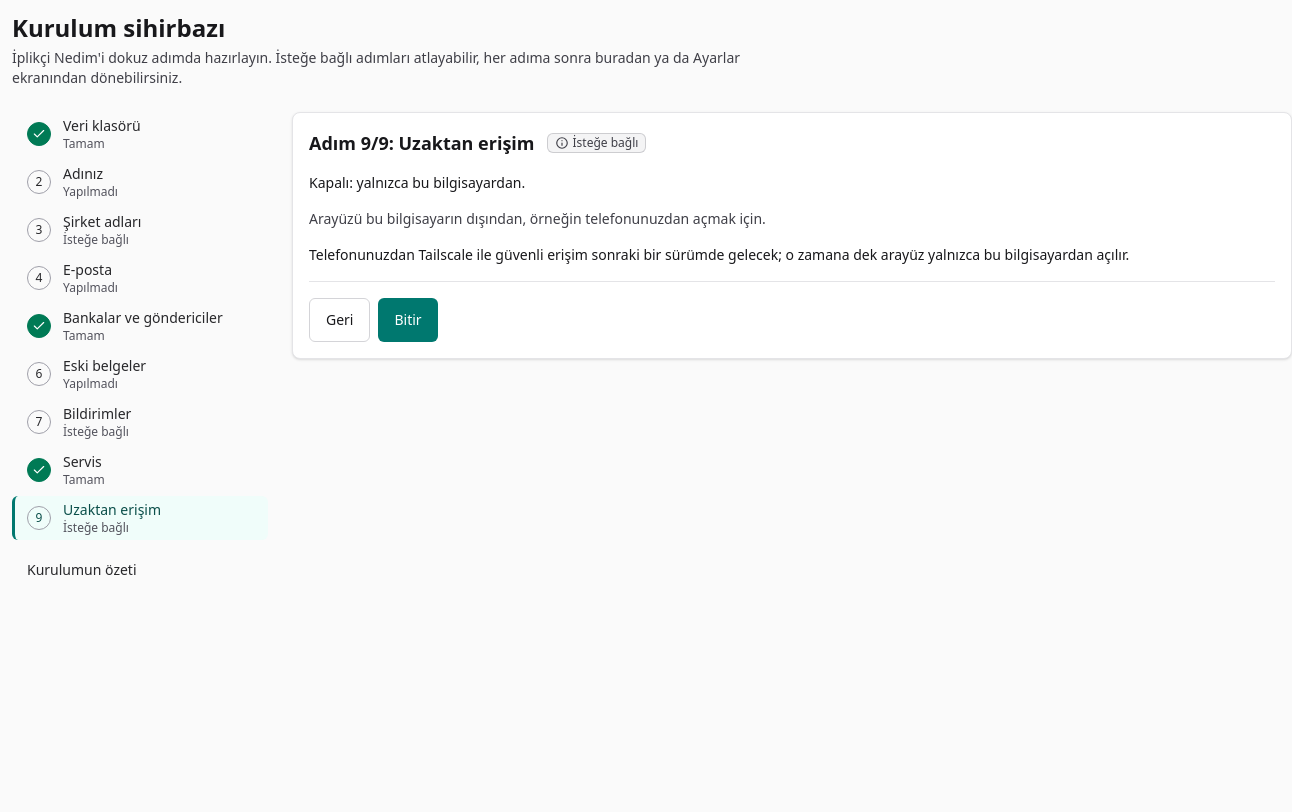
Test: SetupPage: the steps › leads from the last step's Bitir to where the setup stands: the required steps that wait, each a link
Click the button "Bitir" at (408, 320), box [378,298,438,342]
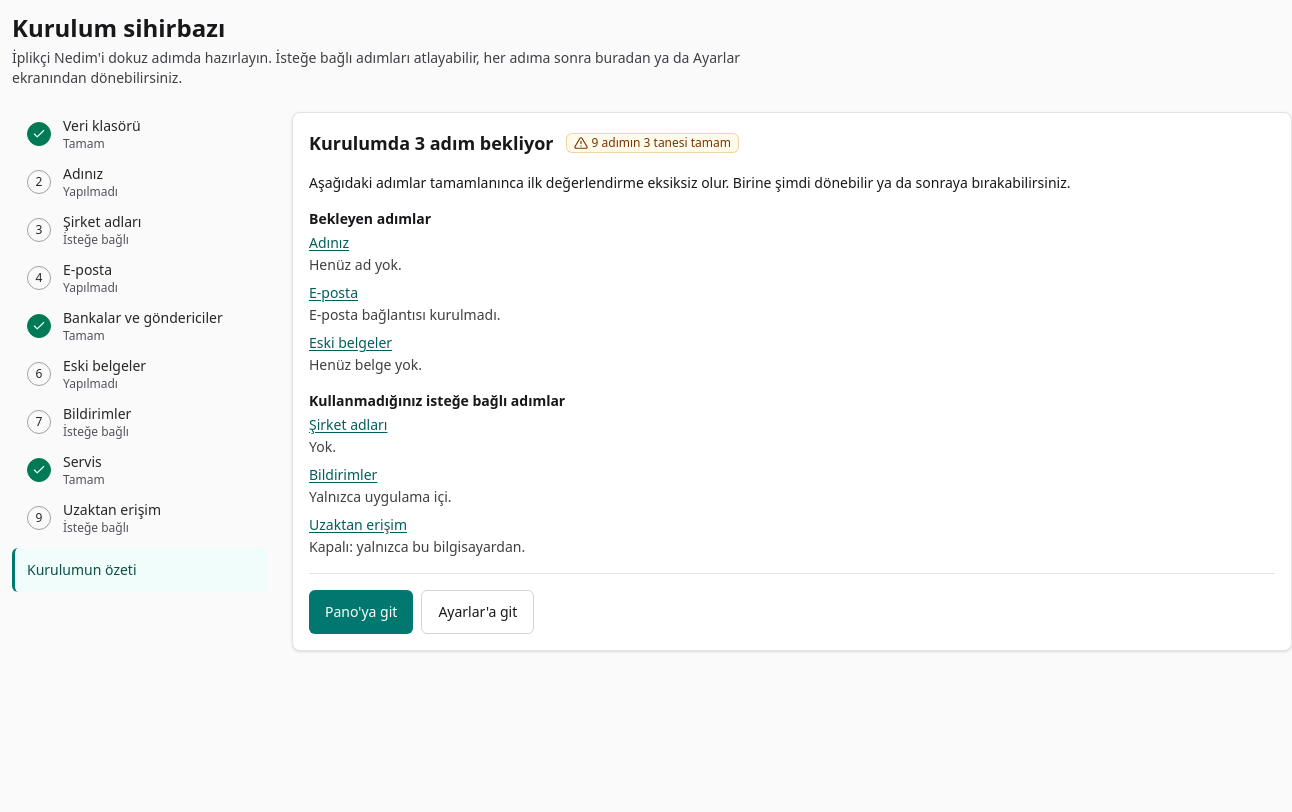
Check: the text "9 adımın 3 tanesi tamam" is shown, box [566,133,739,153]
Check: the links read "Adınız", "E-posta", "Eski belgeler", in this order, box [309,233,349,252]; [309,283,358,302]; [309,333,392,352]
